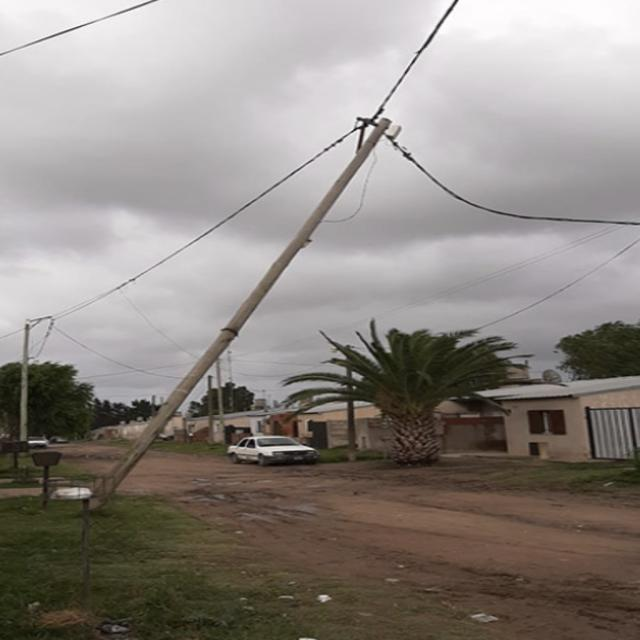Inclined Pole: (85, 113, 395, 505)
